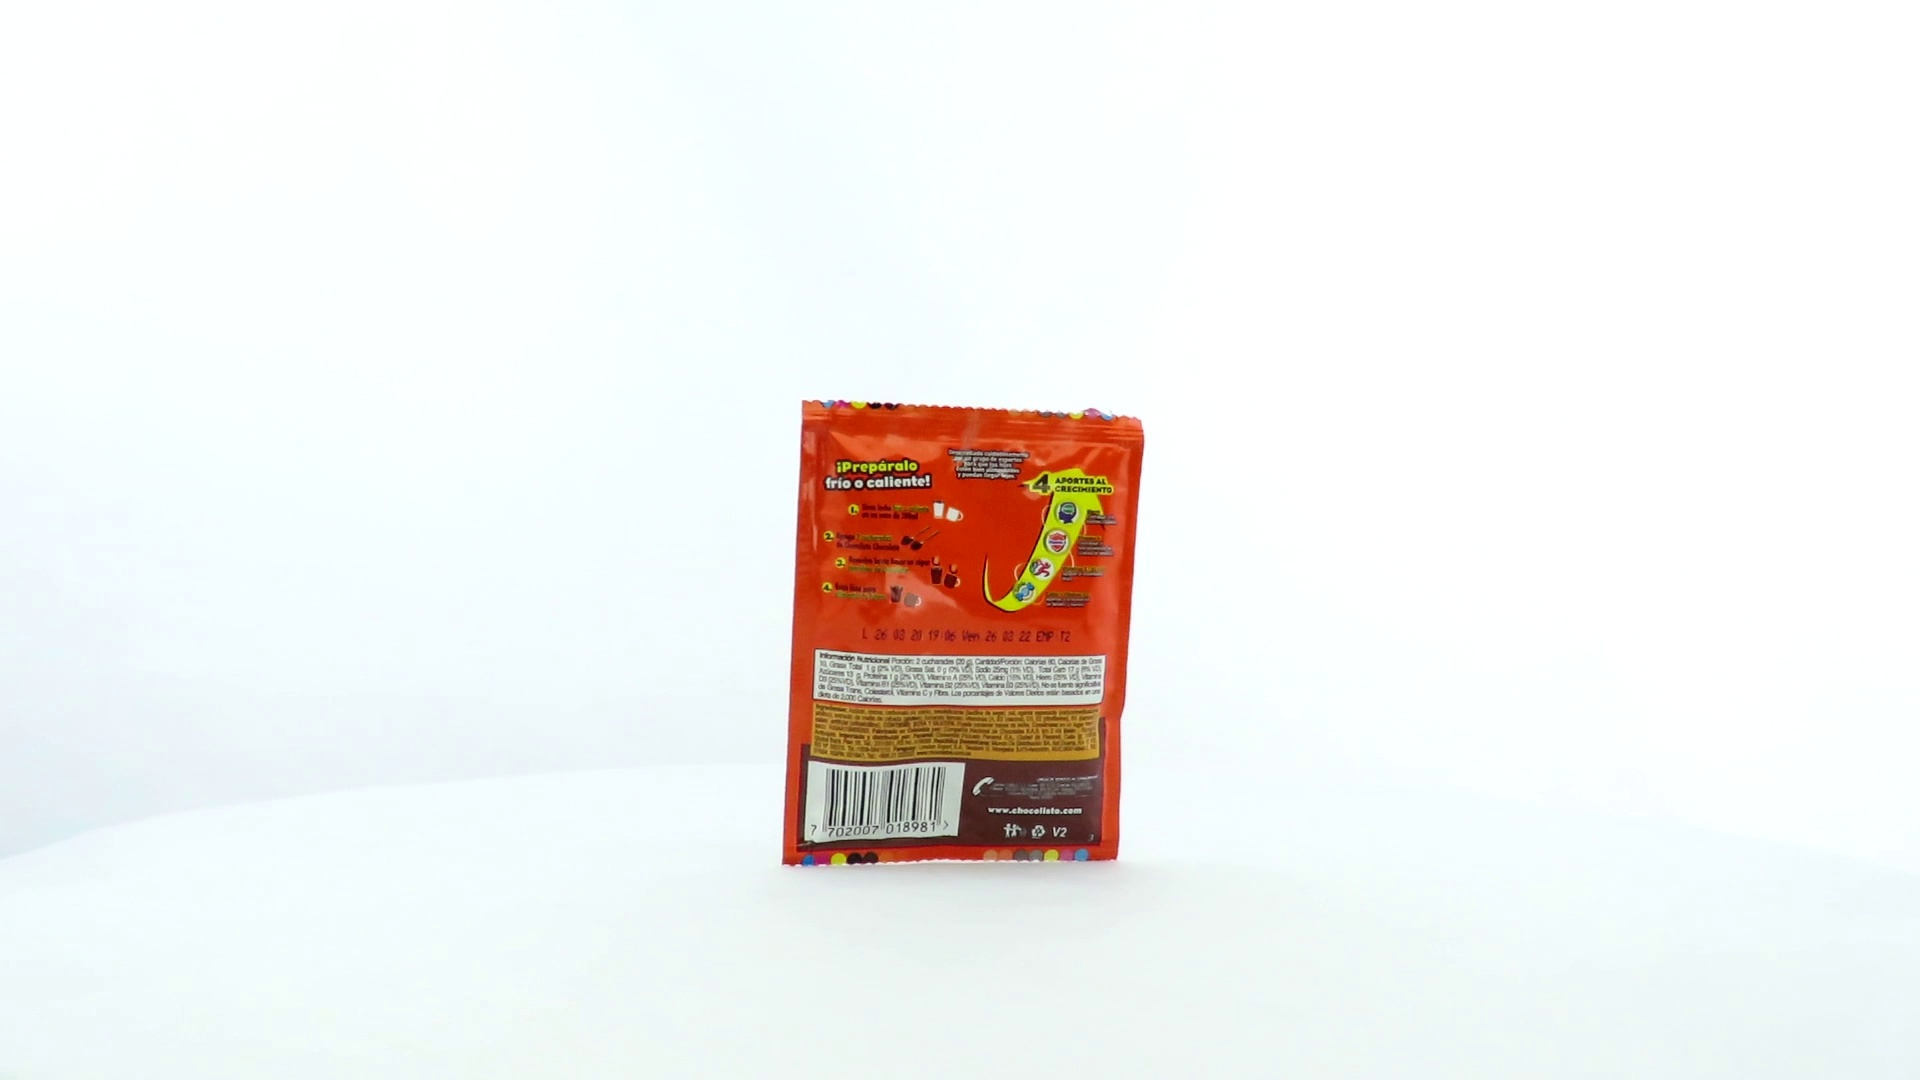COL0170103SOB02000: (775, 394, 1151, 877)
